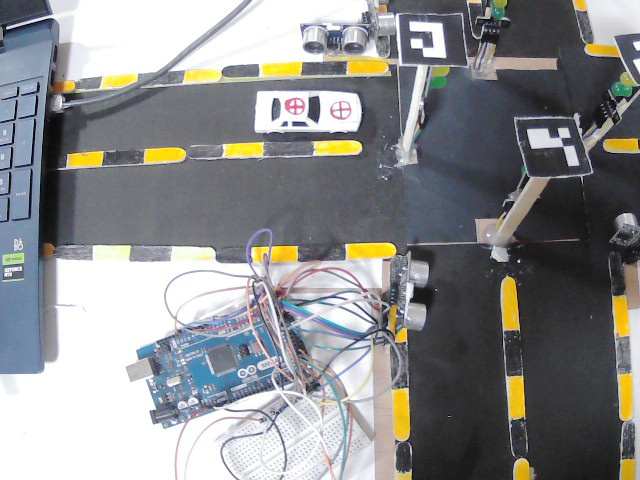aruco_marker: (515, 115, 593, 179), (395, 6, 468, 66), (615, 31, 640, 95)
emergency_vehicle: (251, 88, 364, 135)
traffic_light: (474, 0, 510, 44), (602, 72, 637, 117), (424, 65, 453, 98)
uno_breadboard: (126, 280, 327, 430), (215, 375, 371, 480), (393, 249, 429, 331), (297, 22, 372, 54), (609, 209, 640, 254), (366, 0, 400, 38)
